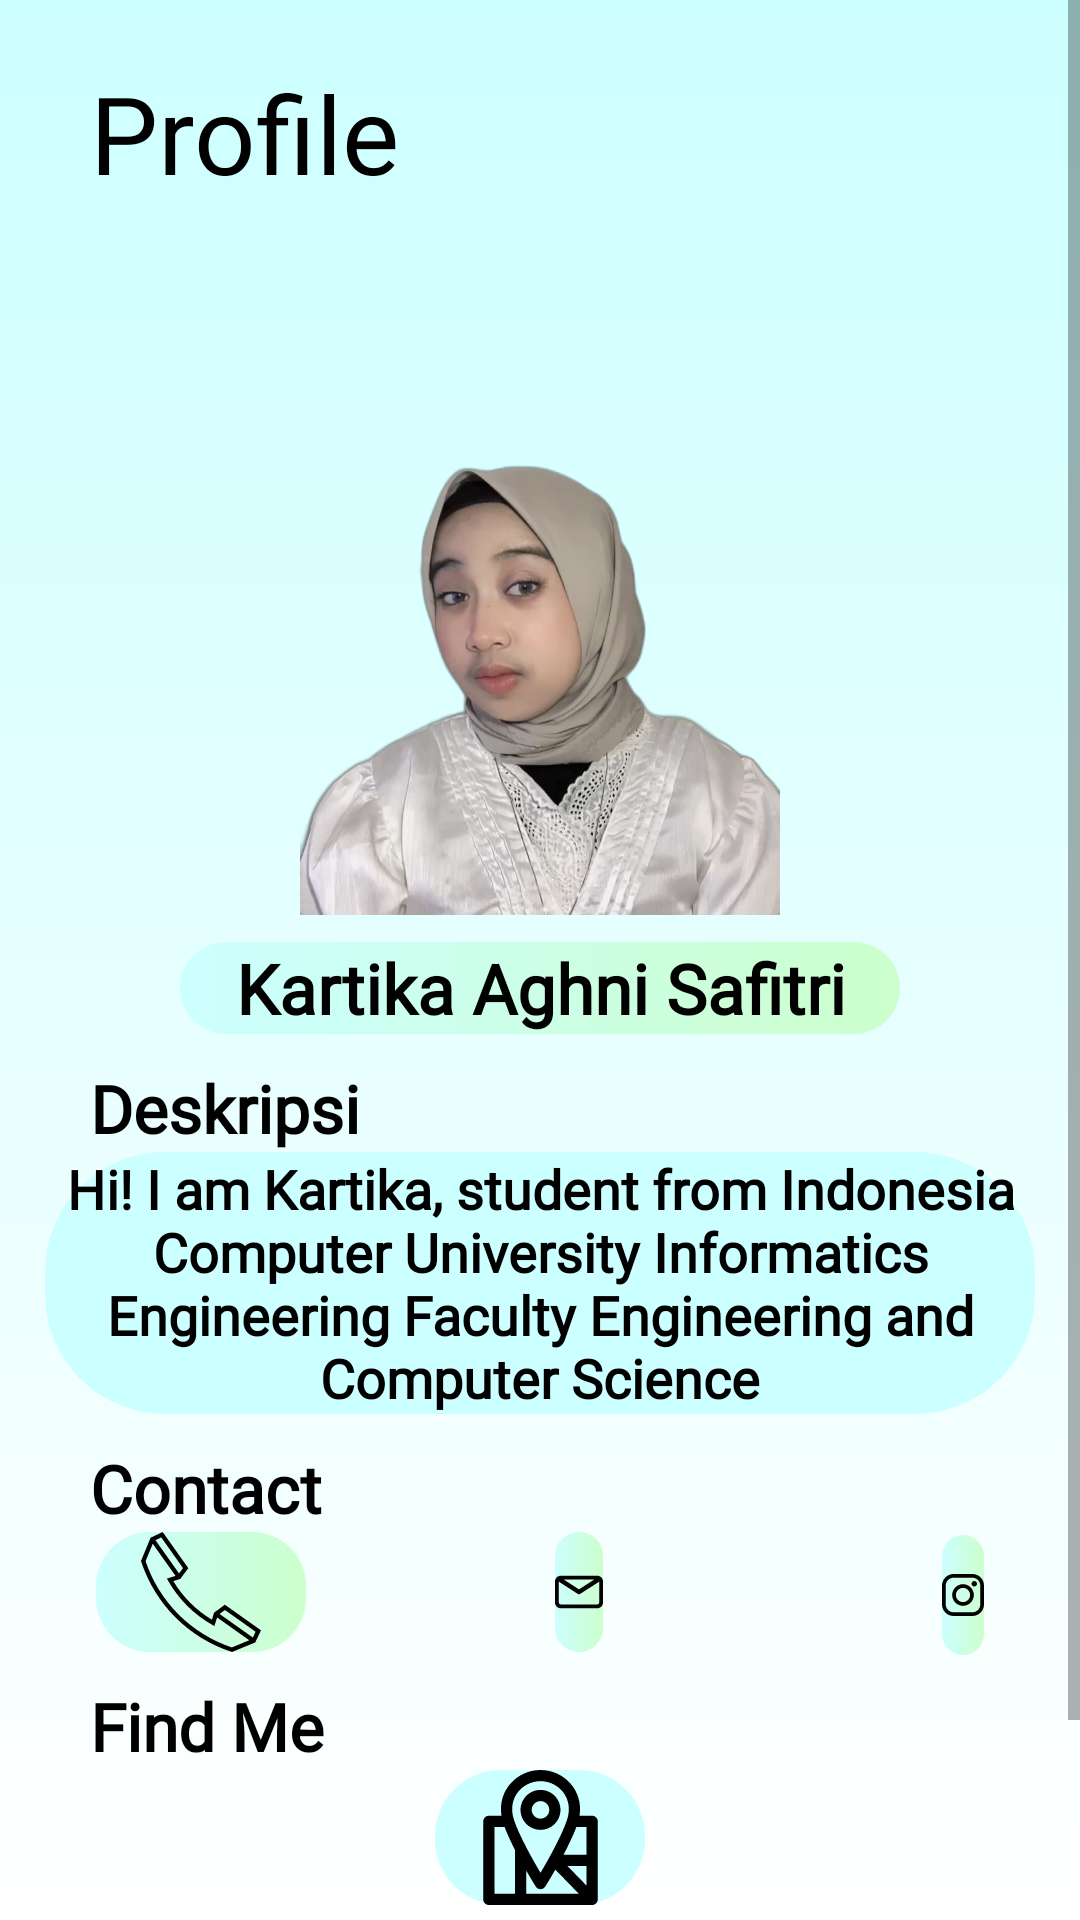

Where to tap for icons on this 1080 x 1920 app screen, as (x,y):
email: (579,1592)
maps: (540,1837)
phone: (201,1592)
